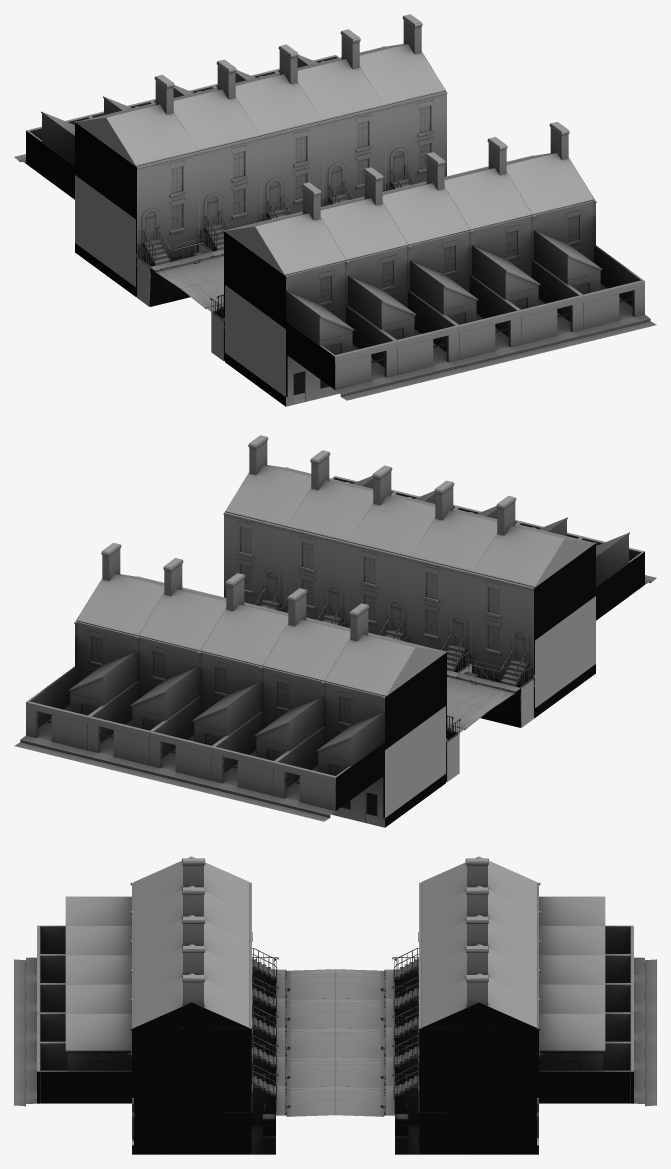
The model's file is bwterrace8.fbx.
3 views of the same model, one above another, from view 1: azimuth 30°, elevation 25°; view 2: azimuth 150°, elevation 25°; view 3: azimuth 270°, elevation 25° (orthographic). The views are drawn at different scales.
Parts seen in each view (by area): view 1: arch.000; view 2: arch.000; view 3: arch.000.
Part boxes in pixels (bbox=[...]): arch.000: bbox=[14, 14, 656, 406]; arch.000: bbox=[14, 435, 656, 827]; arch.000: bbox=[14, 856, 656, 1154].
Size of the model in its own units: 3297 by 1853 by 6134.
Materials: 2 (2 with a texture image).
